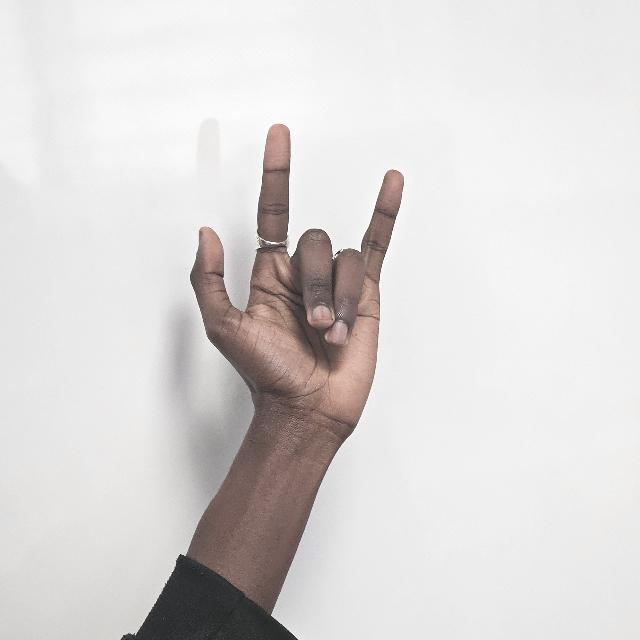Cima: (192, 124, 406, 462)
